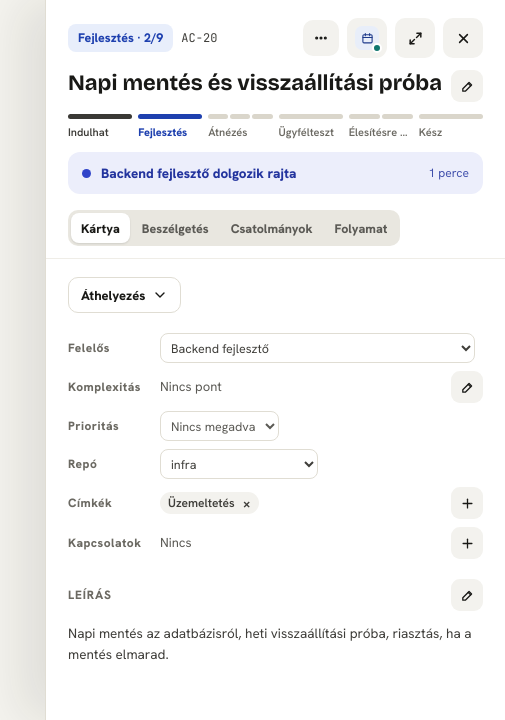
Test: task drawer stage moves › keeps the move panel closed until asked, and shows no gate line without conditions
Expected: the field labelled "Áthelyezés lépésbe" is not shown
Click the button "Áthelyezés". click: (125, 295)
box: x1=68 y1=277 x2=181 y2=313
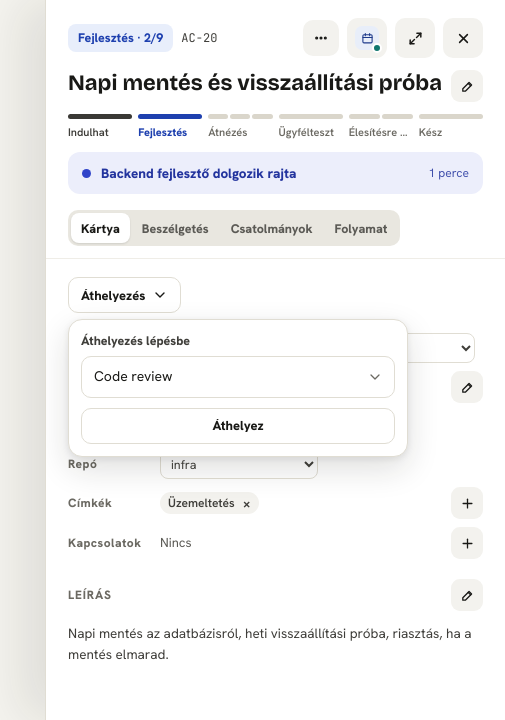
Press Escape in the button "Áthelyezés", box x1=68 y1=277 x2=181 y2=313
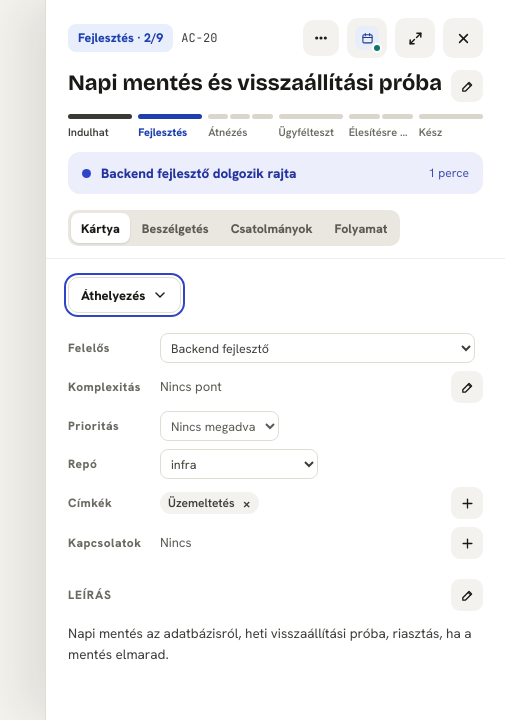
Now the label labelled "Áthelyezés lépésbe" is gone
